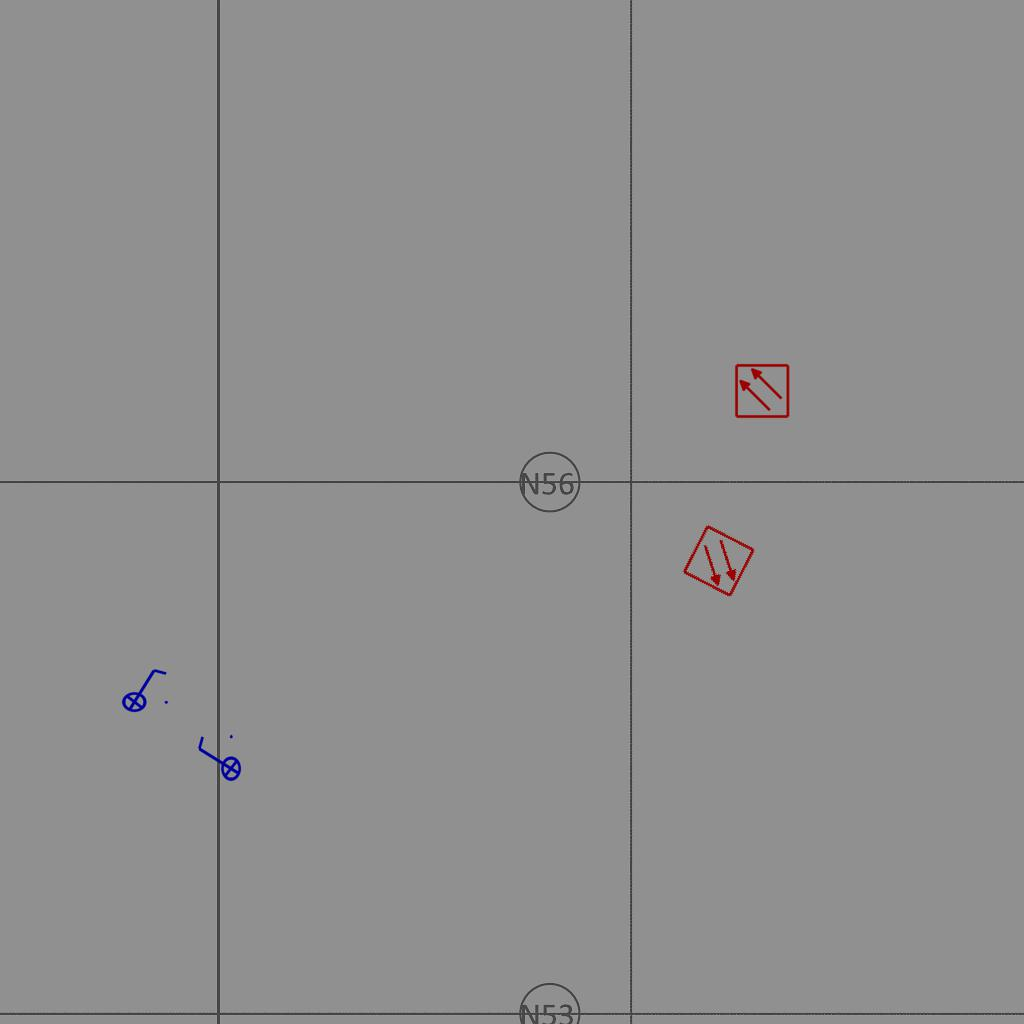Ausschalter_beleuchtet: (194, 732, 242, 788), (115, 665, 171, 713)
RMO_Rauchmelder_optischer: (681, 523, 757, 599), (734, 363, 790, 419)
